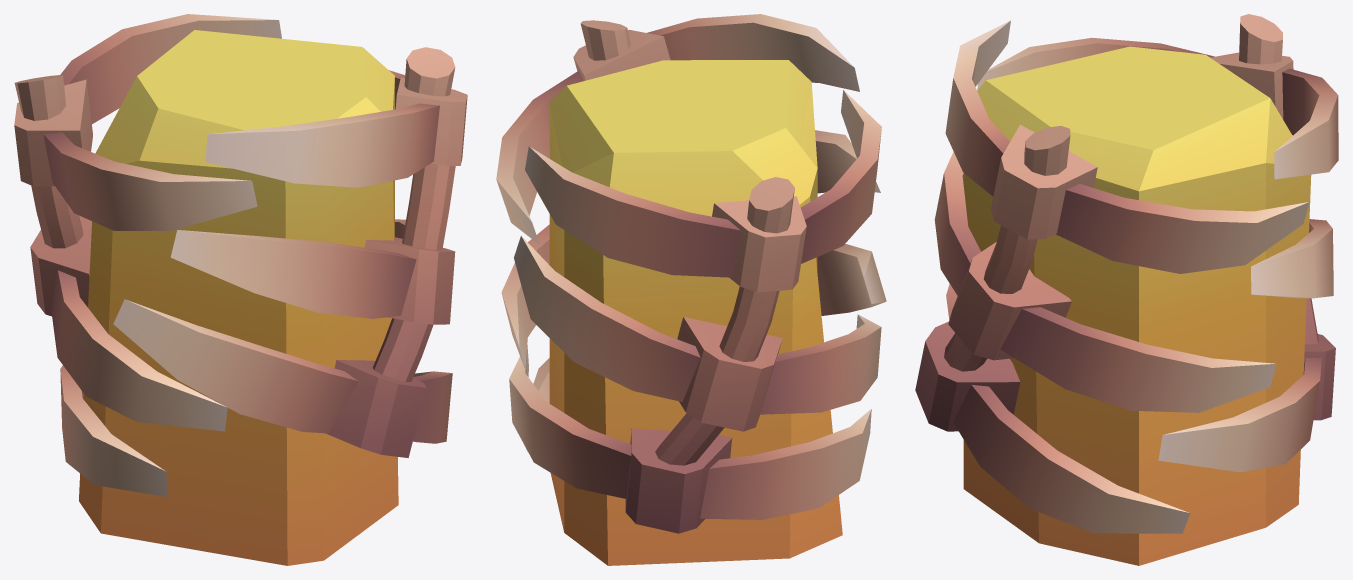
The model's file is column_lev_8.fbx.
3 renders of one model, left to right at view 1: azimuth 30°, elevation 25°; view 2: azimuth 150°, elevation 25°; view 3: azimuth 270°, elevation 25°, orthographic. The views are drawn at different scales.
Parts seen in each view (by area): view 1: column_lev_9; view 2: column_lev_9; view 3: column_lev_9.
Part boxes in pixels (<box>): column_lev_9: <box>14,14,467,565</box>; column_lev_9: <box>496,14,886,565</box>; column_lev_9: <box>915,14,1338,565</box>.
Size of the model in its own units: 591 by 719 by 630.
